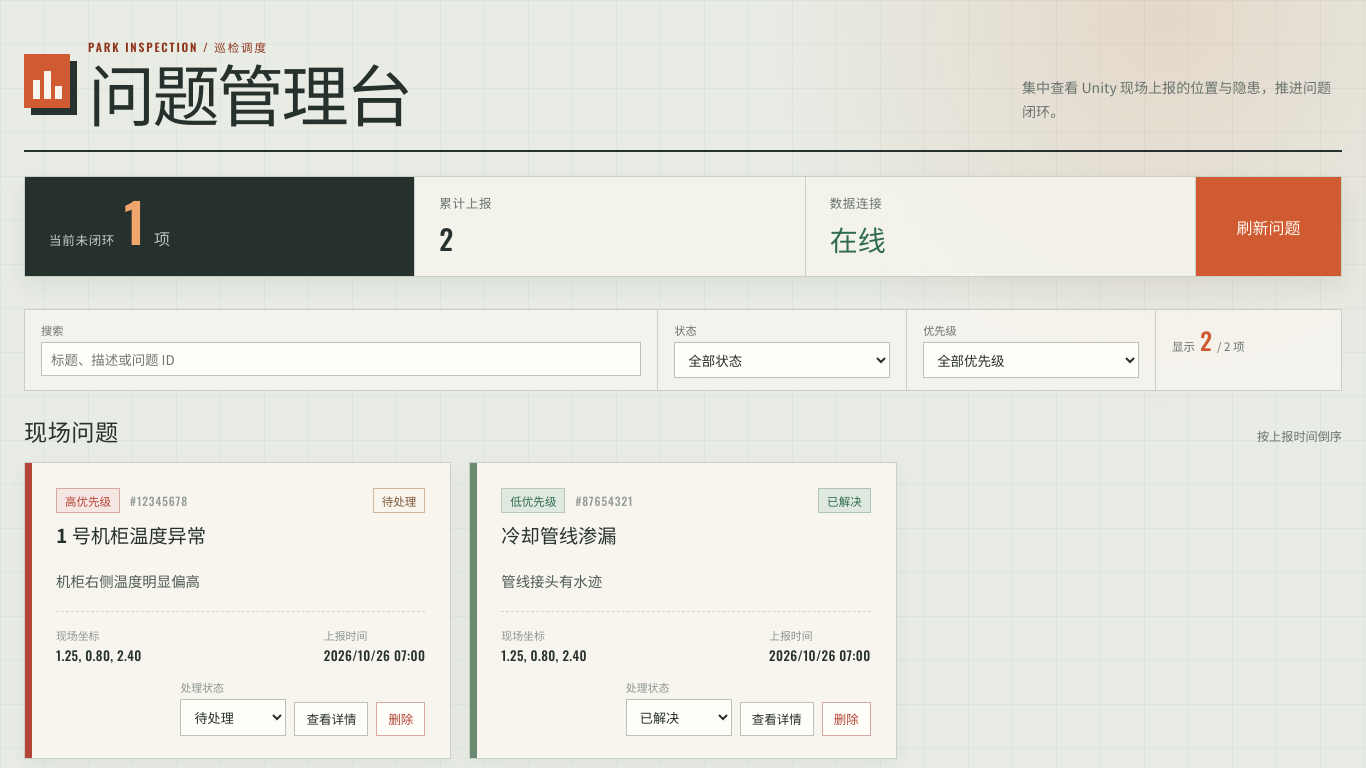
Scenario: App › filters by keyword, status and priority
Expected: the heading "1 号机柜温度异常" is shown, [56,522,206,550]
Type "管线" into the search field labelled "搜索" at {"x": 341, "y": 359}, box [41,342,641,376]
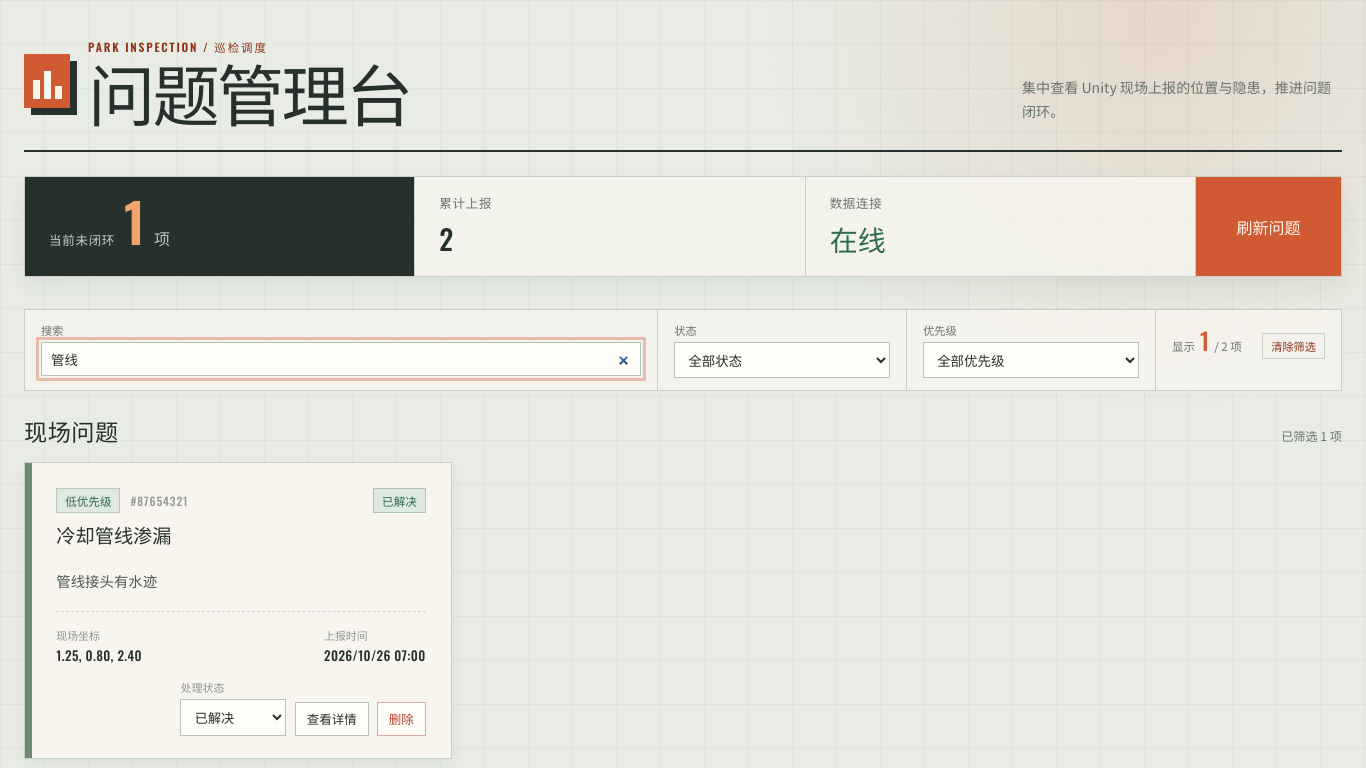
Expected: the heading "冷却管线渗漏" is shown, [56,522,188,550]
Expected: the heading "1 号机柜温度异常" is gone
Clear the search field labelled "搜索" at {"x": 341, "y": 359}, box [41,342,641,376]
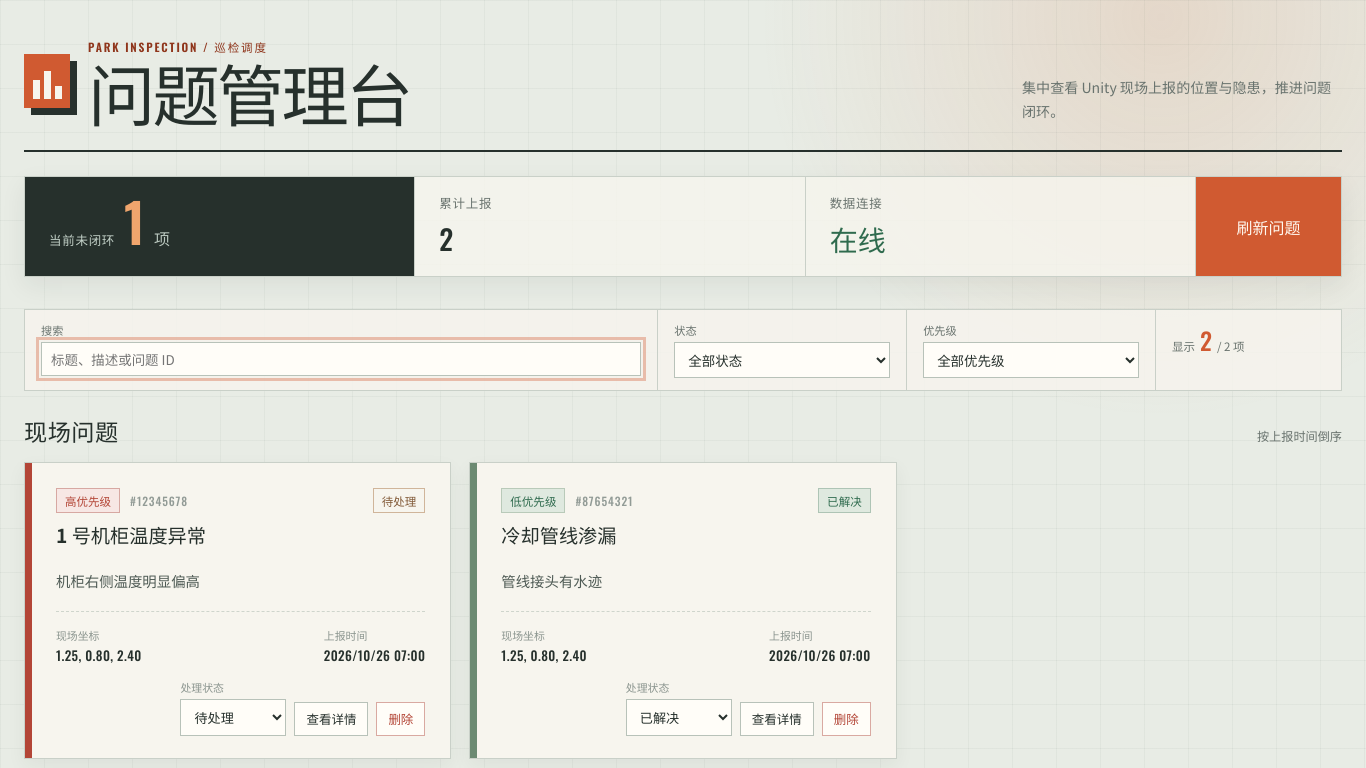
Select "已解决" in the dropdown labelled "状态" at {"x": 782, "y": 360}, box [674,342,890,378]
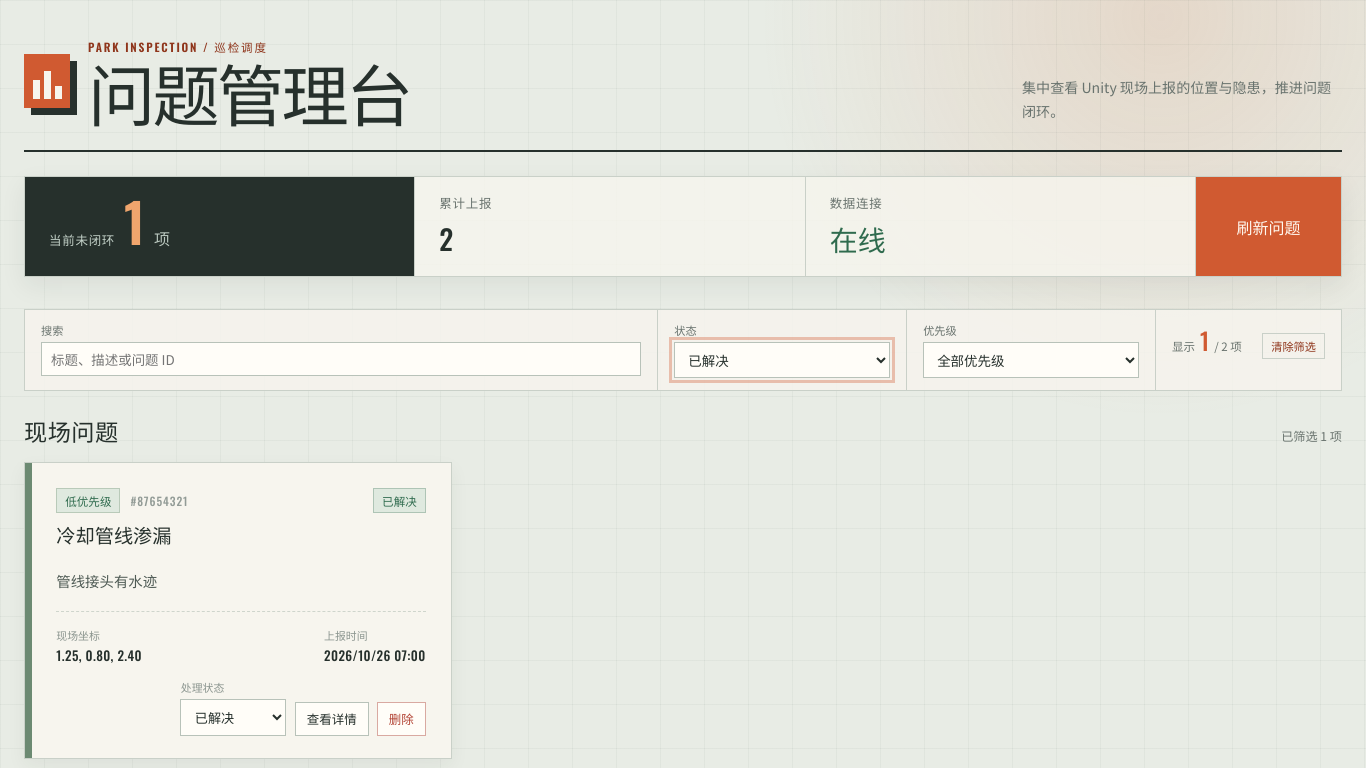
Expected: the heading "冷却管线渗漏" is shown, [56,522,188,550]
Expected: the heading "1 号机柜温度异常" is gone
Select "高优先级" in the dropdown labelled "优先级" at {"x": 1031, "y": 360}, box [923,342,1139,378]
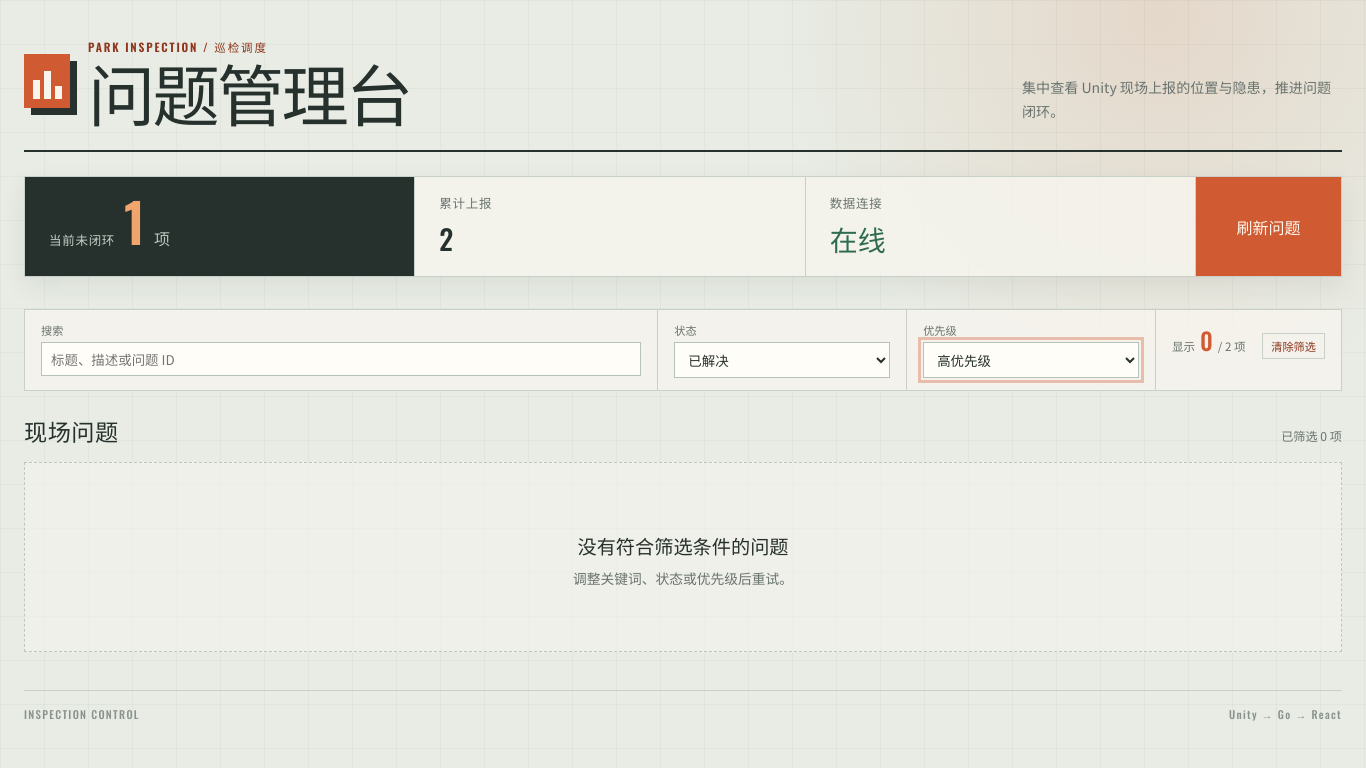
Expected: the heading "冷却管线渗漏" is gone
Expected: the heading "没有符合筛选条件的问题" is shown, [578,532,789,560]
